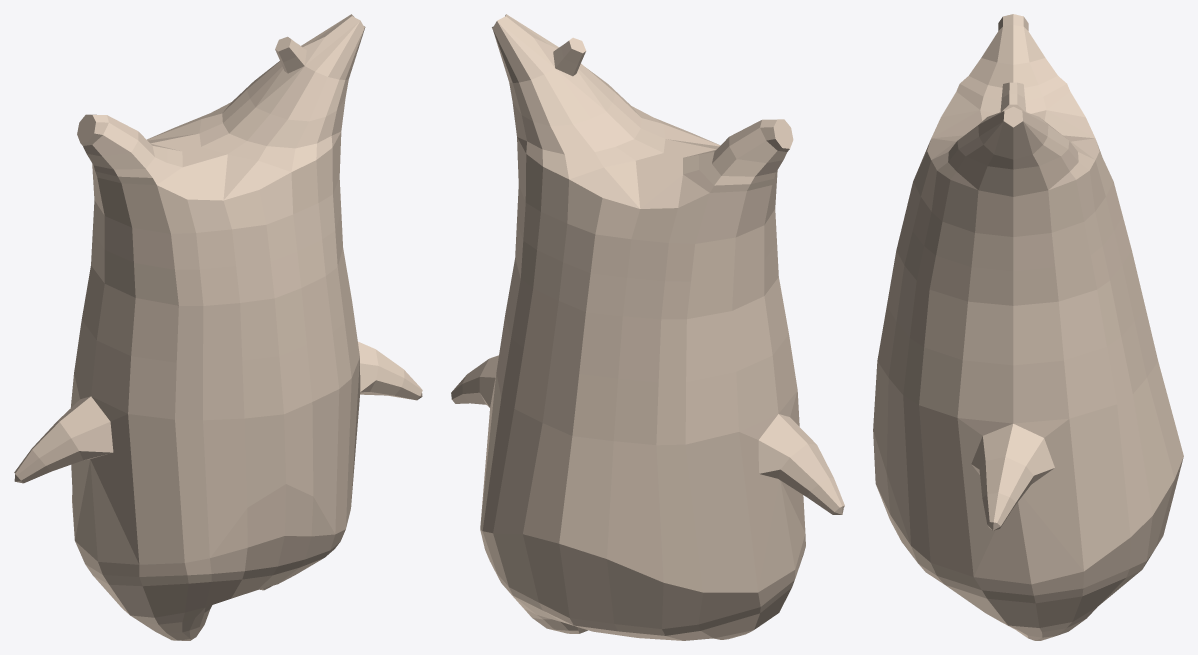
File: frame_0014.obj
3 views of the same model, side by side, from view 1: azimuth 30°, elevation 25°; view 2: azimuth 150°, elevation 25°; view 3: azimuth 270°, elevation 25° (orthographic). The views are drawn at different scales.
Visible parts, largest first — view 1: korok; view 2: korok; view 3: korok.
Part boxes in pixels (x1=…): korok: x1=14, y1=14, x2=422, y2=640; korok: x1=451, y1=14, x2=844, y2=640; korok: x1=873, y1=14, x2=1183, y2=640.
Bounding box in the file's own units: 1.56 × 2.15 × 1.06.
